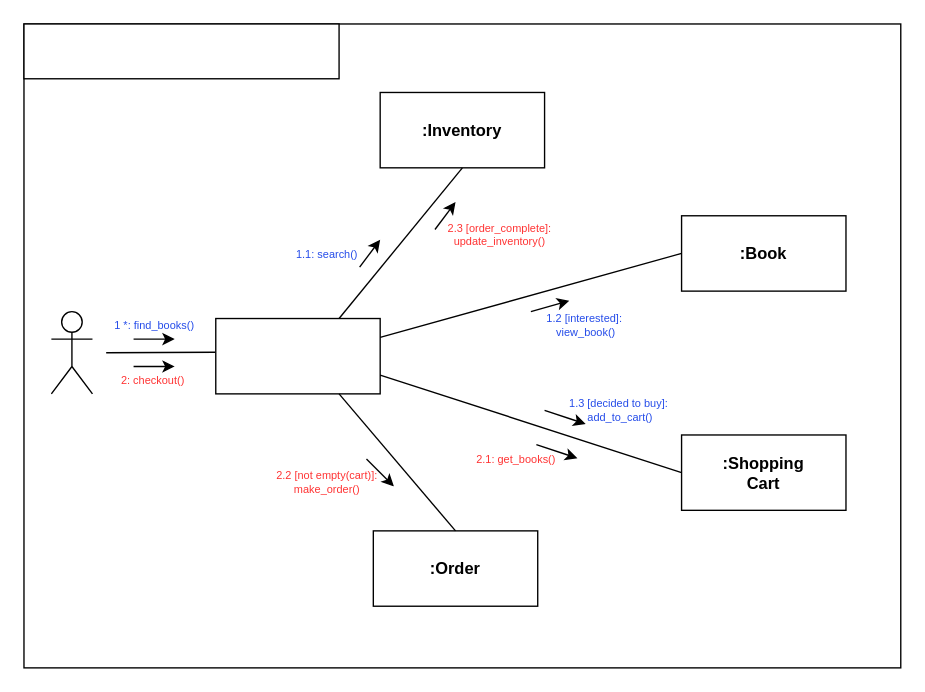
The diagram is 925 pixels wide and 692 high, and some of its shapes have lost their labels. Here are the shapes that lost their labels. From the top down, the centre of each, then its label:
At (x=181, y=51): "Interaction Online Bookshop".
At (x=297, y=355): ":Online Bookshop".
